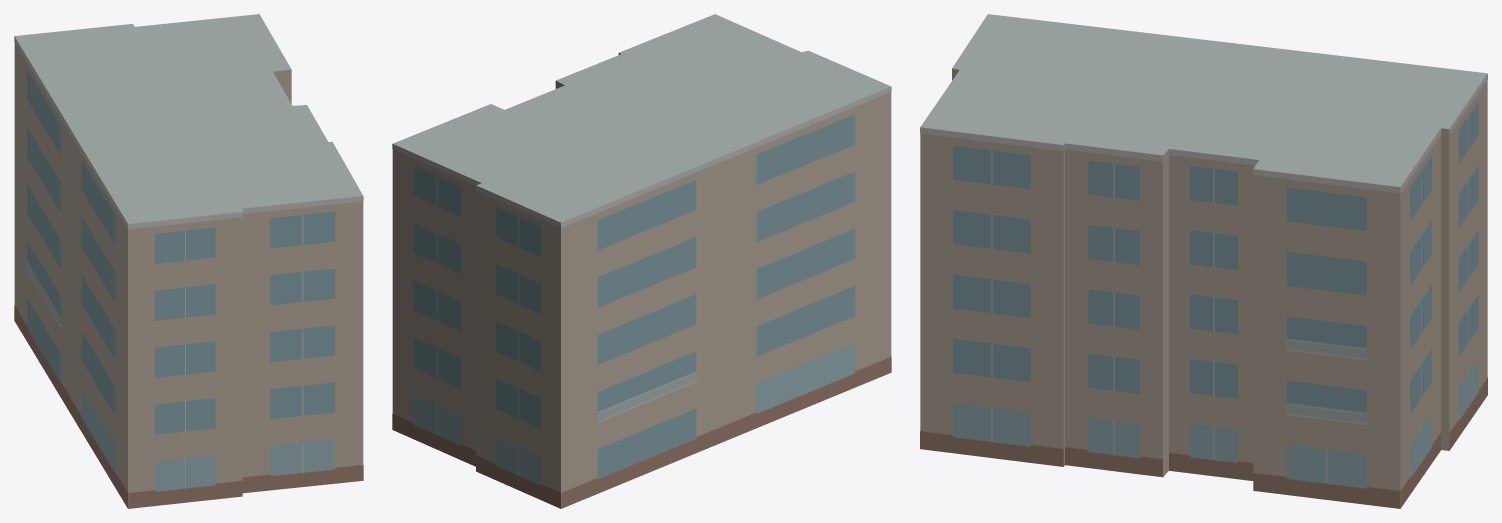
File: survey-upis-32822335.glb
The picture shows the model from 3 angles, left to right: view 1: azimuth 30°, elevation 25°; view 2: azimuth 150°, elevation 25°; view 3: azimuth 270°, elevation 25°; orthographic projection. The views are drawn at different scales.
Parts seen in each view (by area): view 1: survey-upis-32822335.tmp; view 2: survey-upis-32822335.tmp; view 3: survey-upis-32822335.tmp.
Part boxes in pixels (<box>): survey-upis-32822335.tmp: <box>14,14,363,508</box>; survey-upis-32822335.tmp: <box>392,14,891,508</box>; survey-upis-32822335.tmp: <box>920,14,1487,508</box>.
Bounding box in the file's own units: 14.89 × 12.9 × 20.63.
